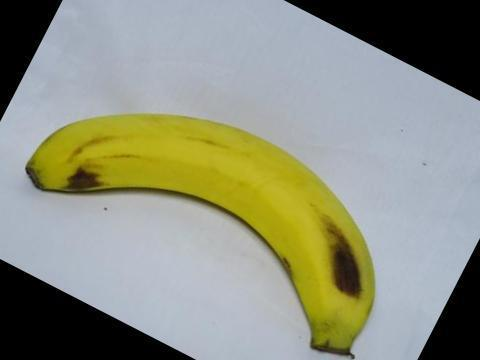freshripe: (29, 110, 391, 359)
